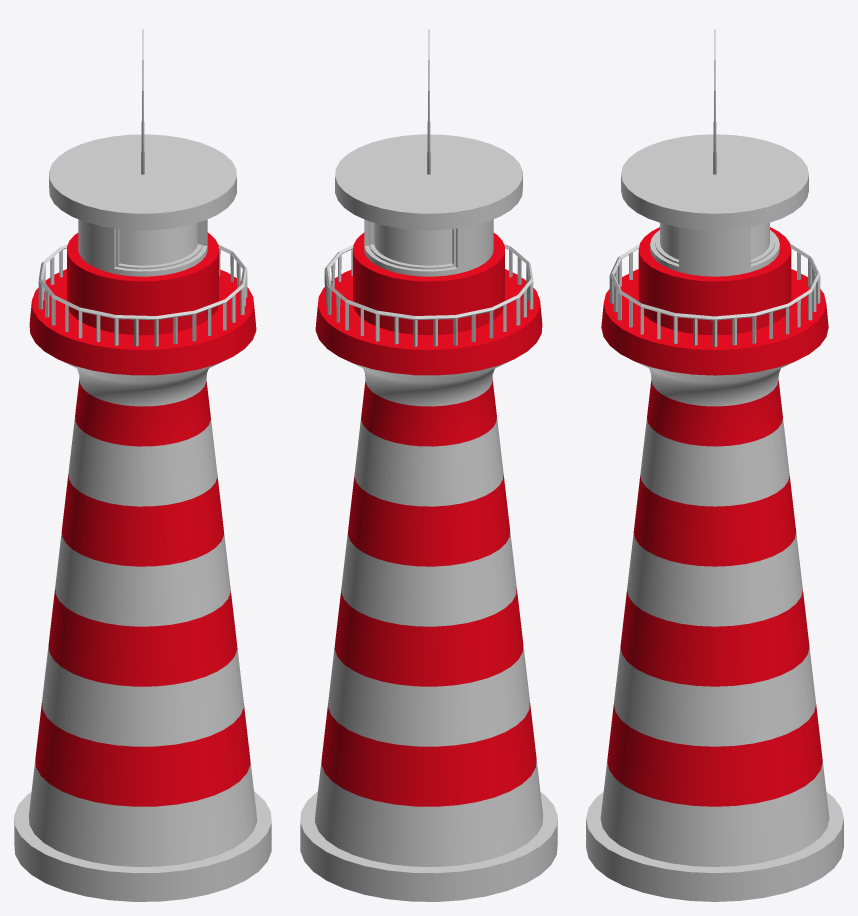
Rendered from Farol.fbx.
3 renders of one model, left to right at view 1: azimuth 30°, elevation 25°; view 2: azimuth 150°, elevation 25°; view 3: azimuth 270°, elevation 25°, orthographic.
Parts seen in each view (by area): view 1: Circle.002; view 2: Circle.002; view 3: Circle.002.
Boxes of the visible parts, x1,y1,x2,y2 form: Circle.002: (14,29,271,901); Circle.002: (300,29,557,901); Circle.002: (586,29,843,901).
Size of the model in its own units: 145 by 518 by 145.
